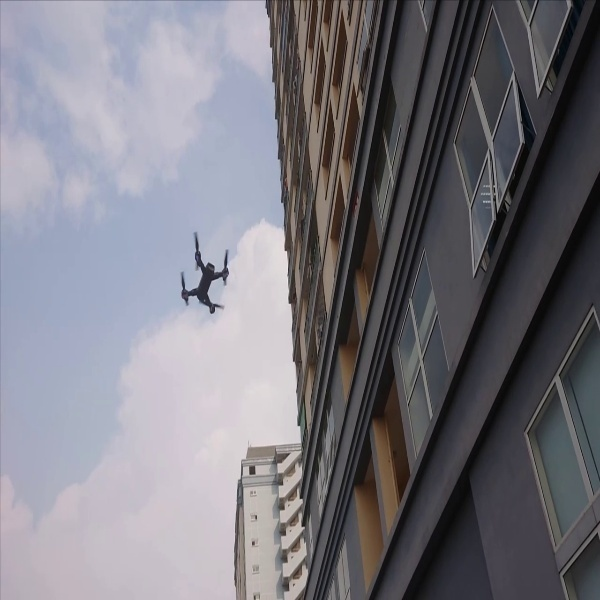drone: (171, 228, 235, 316)
